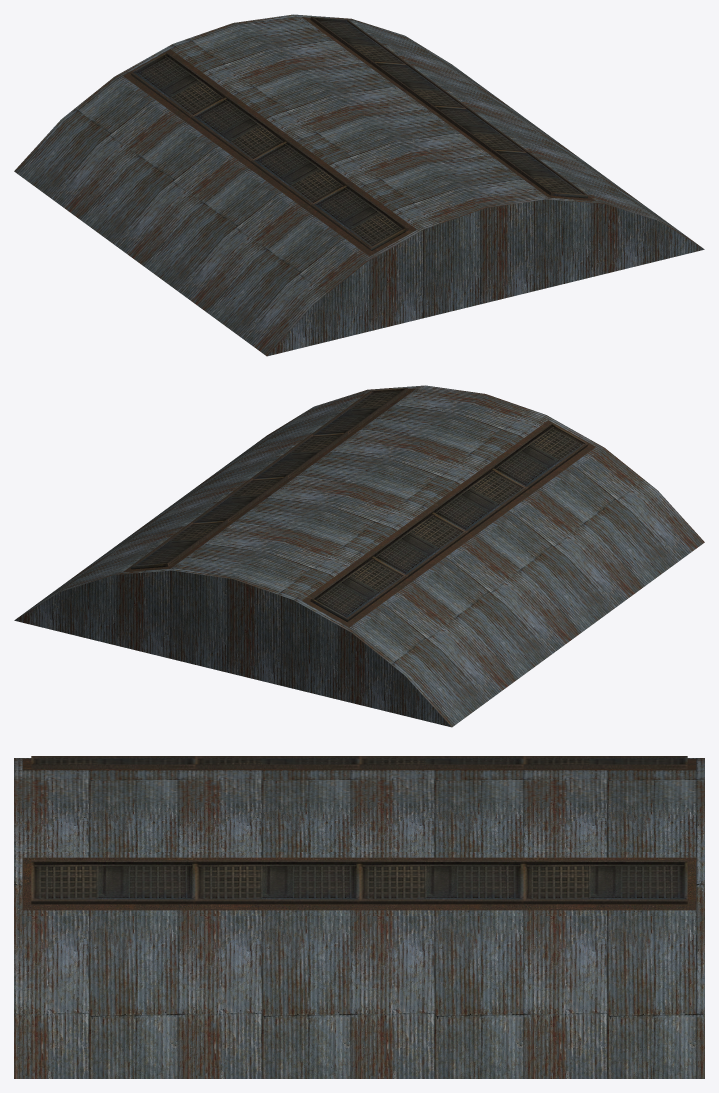
File: warehouse_hs_1_roof_2.fbx
3 renders of one model, top to bottom at view 1: azimuth 30°, elevation 25°; view 2: azimuth 150°, elevation 25°; view 3: azimuth 270°, elevation 25°, orthographic. The views are drawn at different scales.
Parts seen in each view (by area): view 1: warehouse_hs_1_roof_2; view 2: warehouse_hs_1_roof_2; view 3: warehouse_hs_1_roof_2.
Boxes of the visible parts, x1,y1,x2,y2 form: warehouse_hs_1_roof_2: (14, 14, 704, 356); warehouse_hs_1_roof_2: (14, 385, 704, 727); warehouse_hs_1_roof_2: (14, 756, 704, 1078).
Bounding box in the file's own units: 8 × 8 × 1.66.
